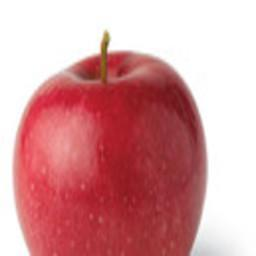apple: (12, 48, 208, 256)
